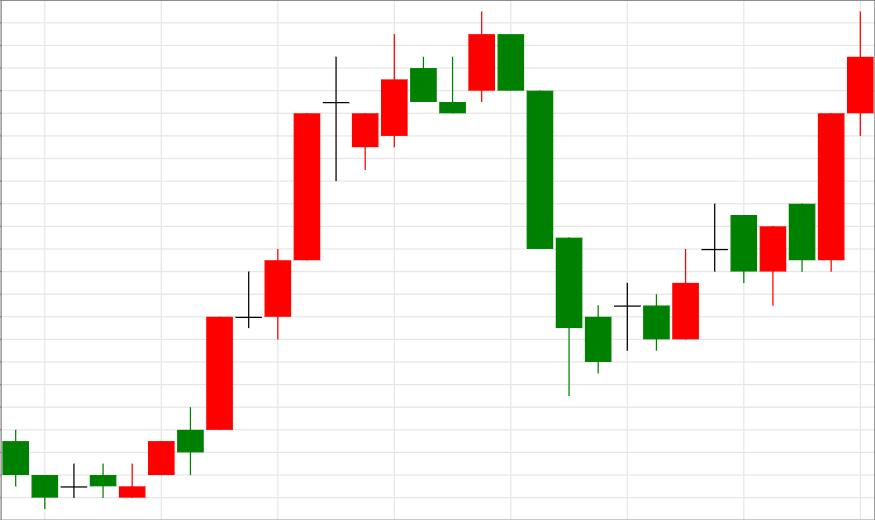three_black_crows_fall: (118, 9, 582, 498)
